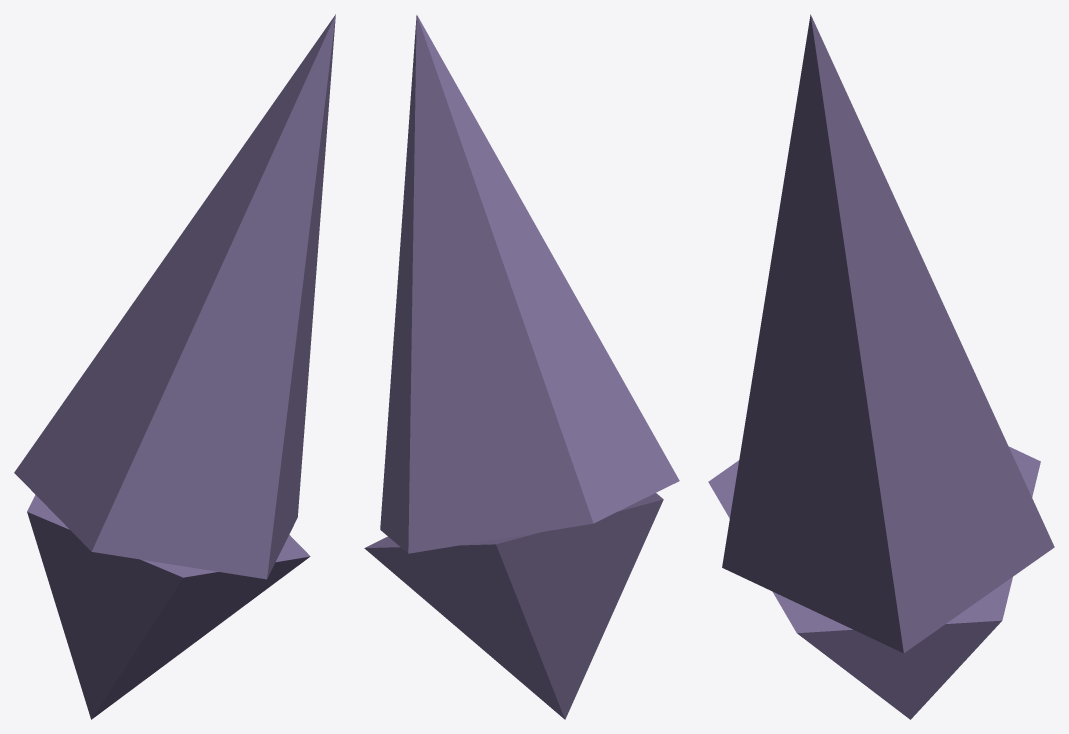
The model's file is FSA_ITEM_MutationCrystal.glb.
3 views of the same model, side by side, from view 1: azimuth 30°, elevation 25°; view 2: azimuth 150°, elevation 25°; view 3: azimuth 270°, elevation 25° (orthographic). The views are drawn at different scales.
Parts seen in each view (by area): view 1: SingleShard_Crown, SingleShard_Root; view 2: SingleShard_Crown, SingleShard_Root; view 3: SingleShard_Crown, SingleShard_Root.
Part boxes in pixels (left/top/right/bottom): SingleShard_Crown: left=14, top=14, right=335, bottom=579; SingleShard_Root: left=27, top=495, right=310, bottom=719; SingleShard_Crown: left=380, top=14, right=679, bottom=553; SingleShard_Root: left=364, top=493, right=663, bottom=719; SingleShard_Crown: left=722, top=14, right=1054, bottom=653; SingleShard_Root: left=708, top=446, right=1040, bottom=719.
Bounding box in the file's own units: 0.0581 × 0.1317 × 0.0501.
